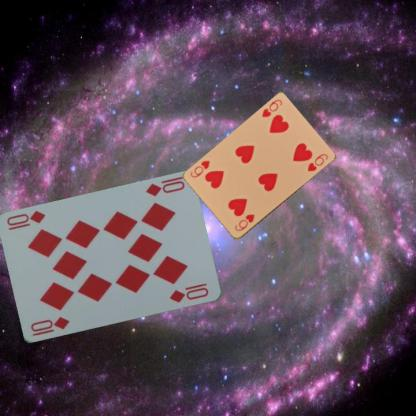10d: (143, 174, 186, 198), (28, 314, 70, 337)
6h: (259, 97, 284, 119), (232, 211, 256, 233)
